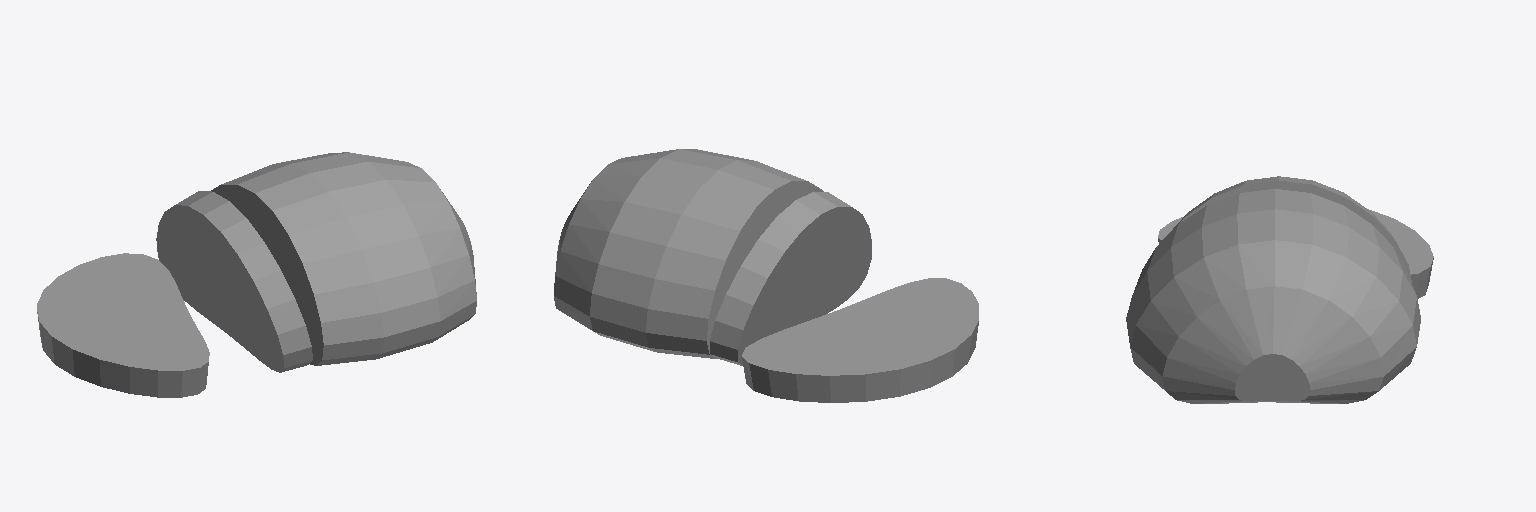
File: pan.obj
The picture shows the model from 3 angles: view 1: azimuth 30°, elevation 25°; view 2: azimuth 150°, elevation 25°; view 3: azimuth 270°, elevation 25°; orthographic projection.
Visible parts, largest first — view 1: breadHalf_Circle, breadHalf.001_Circle.002, breadHalf.003_Circle.004; view 2: breadHalf_Circle, breadHalf.001_Circle.002, breadHalf.003_Circle.004; view 3: breadHalf_Circle, breadHalf.003_Circle.004, breadHalf.001_Circle.002.
Part boxes in pixels (x1,y1,x2,y2): breadHalf_Circle: (211,152,476,365); breadHalf.001_Circle.002: (37,253,209,397); breadHalf.003_Circle.004: (156,191,312,372); breadHalf_Circle: (554,149,823,358); breadHalf.001_Circle.002: (742,278,978,402); breadHalf.003_Circle.004: (710,192,871,365); breadHalf_Circle: (1126,189,1420,403); breadHalf.003_Circle.004: (1173,176,1411,281); breadHalf.001_Circle.002: (1158,209,1433,298).
Size of the model in its own units: 2.47 by 0.8643 by 1.68.